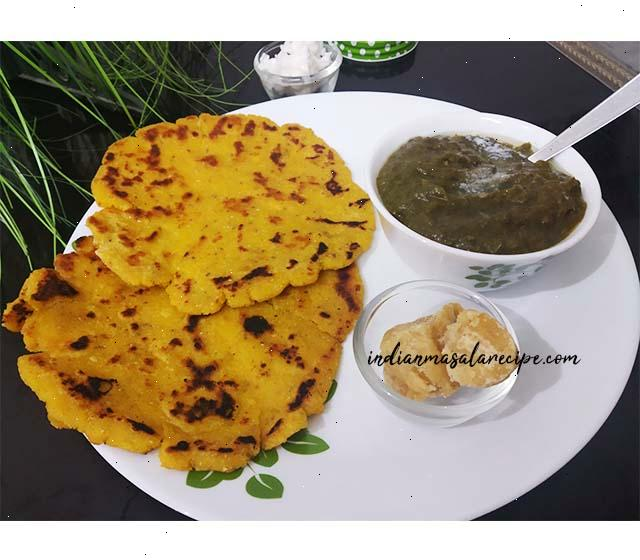saag: (380, 134, 588, 256)
